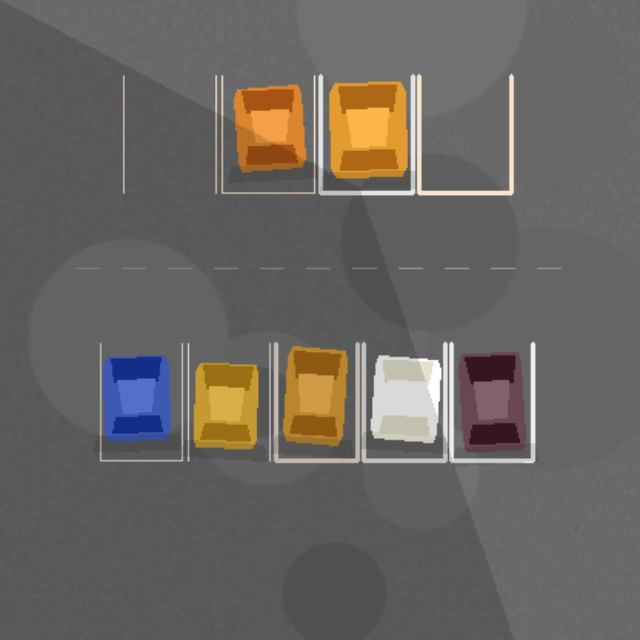space-empty: (418, 75, 511, 192), (123, 75, 215, 192)
space-occupied: (222, 75, 314, 192), (320, 75, 412, 192), (100, 343, 182, 460), (275, 343, 357, 460), (363, 343, 445, 460), (188, 343, 269, 460), (451, 343, 532, 460)
